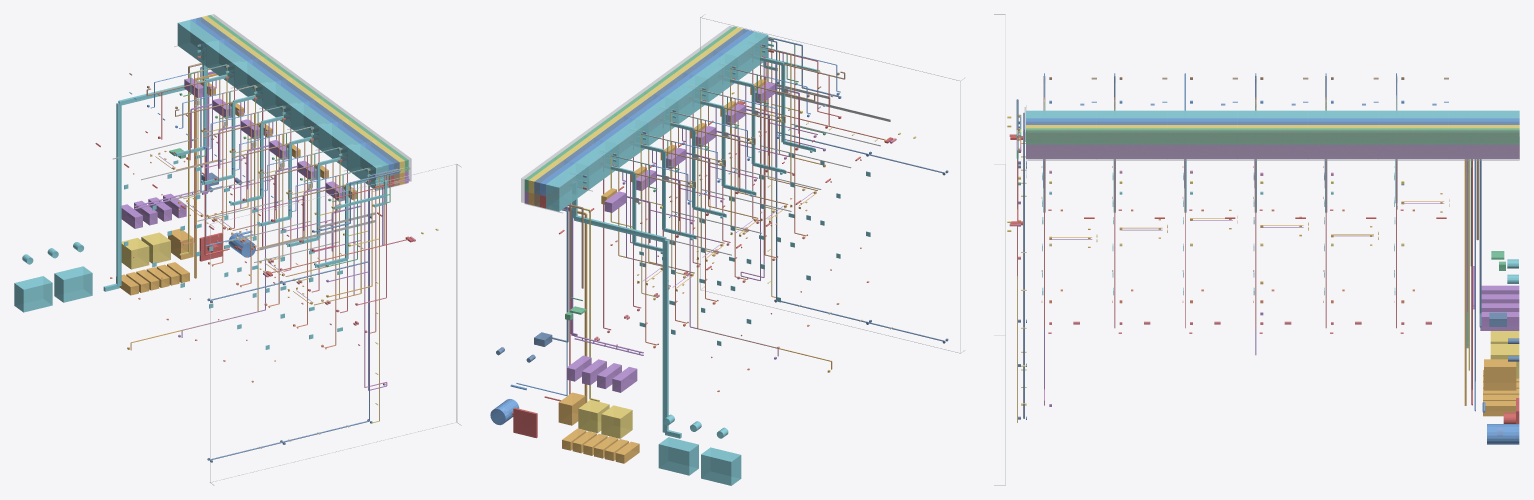
File: equity-uprise-building-services-core-v2.glb
The picture shows the model from 3 angles, left to right: view 1: azimuth 30°, elevation 25°; view 2: azimuth 150°, elevation 25°; view 3: azimuth 270°, elevation 25°; orthographic projection. The views are drawn at different scales.
Visible parts, largest first — view 1: SVC-B1-SOURCE::HVAC-AIR::AHU-A, SVC-B1-SOURCE::HVAC-AIR::AHU-B, SVC-RISER::HVAC-AIR::SEG-L6-L7, SVC-B1-DIST::HVAC-AIR::01, SVC-RISER::HVAC-AIR::SEG-L0-L1, SVC-RISER::HVAC-AIR::SEG-L5-L6, SVC-RISER::HVAC-AIR::SEG-L1-L2, SVC-RISER::HVAC-AIR::SEG-L3-L4, SVC-RISER::HVAC-AIR::SEG-L4-L5, SVC-RISER::HVAC-AIR::SEG-L2-L3, SVC-SEPARATION::STAIR-A-BUFFER, SVC-B1-SOURCE::ELEC-EMERGENCY::UPS-A (+3 smaller); view 2: SVC-RISER::HVAC-AIR::SEG-L0-L1, SVC-B1-DIST::HVAC-AIR::01, SVC-B1-SOURCE::HVAC-AIR::AHU-A, SVC-B1-SOURCE::HVAC-AIR::AHU-B, SVC-RISER::HVAC-AIR::SEG-L4-L5, SVC-RISER::HVAC-AIR::SEG-L5-L6, SVC-RISER::HVAC-AIR::SEG-L6-L7, SVC-RISER::HVAC-AIR::SEG-L3-L4, SVC-RISER::HVAC-AIR::SEG-L1-L2, SVC-RISER::HVAC-AIR::SEG-L2-L3, SVC-SEPARATION::STAIR-A-BUFFER, SVC-B1-SOURCE::ELEC-EMERGENCY::UPS-A (+5 smaller); view 3: SVC-SEPARATION::STAIR-A-BUFFER, SVC-RISER::BAS-CONTROLS::SEG-L2-L3, SVC-RISER::BAS-CONTROLS::SEG-L0-L1, SVC-RISER::BAS-CONTROLS::SEG-L1-L2, SVC-RISER::BAS-CONTROLS::SEG-L3-L4, SVC-RISER::BAS-CONTROLS::SEG-L4-L5, SVC-RISER::BAS-CONTROLS::SEG-L6-L7, SVC-RISER::BAS-CONTROLS::SEG-L5-L6, SVC-RISER::DATA-STRUCTURED::SEG-L0-L1, SVC-RISER::DATA-STRUCTURED::SEG-L2-L3, SVC-RISER::DATA-STRUCTURED::SEG-L3-L4, SVC-RISER::DATA-STRUCTURED::SEG-L4-L5 (+14 smaller).
Boxes of the visible parts, <box> form: SVC-B1-SOURCE::HVAC-AIR::AHU-A: <box>14,276,52,312</box>; SVC-B1-SOURCE::HVAC-AIR::AHU-B: <box>54,266,92,302</box>; SVC-RISER::HVAC-AIR::SEG-L6-L7: <box>347,144,388,190</box>; SVC-B1-DIST::HVAC-AIR::01: <box>116,103,121,286</box>; SVC-RISER::HVAC-AIR::SEG-L0-L1: <box>177,19,218,65</box>; SVC-RISER::HVAC-AIR::SEG-L5-L6: <box>319,123,359,169</box>; SVC-RISER::HVAC-AIR::SEG-L1-L2: <box>206,40,246,86</box>; SVC-RISER::HVAC-AIR::SEG-L3-L4: <box>262,82,303,128</box>; SVC-RISER::HVAC-AIR::SEG-L4-L5: <box>291,102,331,148</box>; SVC-RISER::HVAC-AIR::SEG-L2-L3: <box>234,61,274,107</box>; SVC-SEPARATION::STAIR-A-BUFFER: <box>211,14,411,181</box>; SVC-B1-SOURCE::ELEC-EMERGENCY::UPS-A: <box>121,238,149,269</box>; SVC-RISER::HVAC-AIR::SEG-L0-L1: <box>546,162,589,211</box>; SVC-B1-DIST::HVAC-AIR::01: <box>662,239,668,432</box>; SVC-B1-SOURCE::HVAC-AIR::AHU-A: <box>701,447,741,485</box>; SVC-B1-SOURCE::HVAC-AIR::AHU-B: <box>658,437,698,475</box>; SVC-RISER::HVAC-AIR::SEG-L4-L5: <box>666,75,708,123</box>; SVC-RISER::HVAC-AIR::SEG-L5-L6: <box>695,53,738,101</box>; SVC-RISER::HVAC-AIR::SEG-L6-L7: <box>725,31,768,80</box>; SVC-RISER::HVAC-AIR::SEG-L3-L4: <box>636,97,678,145</box>; SVC-RISER::HVAC-AIR::SEG-L1-L2: <box>576,141,618,189</box>; SVC-RISER::HVAC-AIR::SEG-L2-L3: <box>606,119,648,167</box>; SVC-SEPARATION::STAIR-A-BUFFER: <box>521,26,732,202</box>; SVC-B1-SOURCE::ELEC-EMERGENCY::UPS-A: <box>601,405,632,438</box>; SVC-SEPARATION::STAIR-A-BUFFER: <box>1027,130,1519,160</box>; SVC-RISER::BAS-CONTROLS::SEG-L2-L3: <box>1307,128,1378,144</box>; SVC-RISER::BAS-CONTROLS::SEG-L0-L1: <box>1448,128,1519,144</box>; SVC-RISER::BAS-CONTROLS::SEG-L1-L2: <box>1378,128,1448,144</box>; SVC-RISER::BAS-CONTROLS::SEG-L3-L4: <box>1237,128,1307,144</box>; SVC-RISER::BAS-CONTROLS::SEG-L4-L5: <box>1167,128,1237,144</box>; SVC-RISER::BAS-CONTROLS::SEG-L6-L7: <box>1026,128,1096,144</box>; SVC-RISER::BAS-CONTROLS::SEG-L5-L6: <box>1096,128,1167,144</box>; SVC-RISER::DATA-STRUCTURED::SEG-L0-L1: <box>1448,144,1519,158</box>; SVC-RISER::DATA-STRUCTURED::SEG-L2-L3: <box>1307,144,1378,158</box>; SVC-RISER::DATA-STRUCTURED::SEG-L3-L4: <box>1237,144,1307,158</box>; SVC-RISER::DATA-STRUCTURED::SEG-L4-L5: <box>1167,144,1237,158</box>.
Size of the model in its own units: 20.76 by 21.35 by 30.71.
